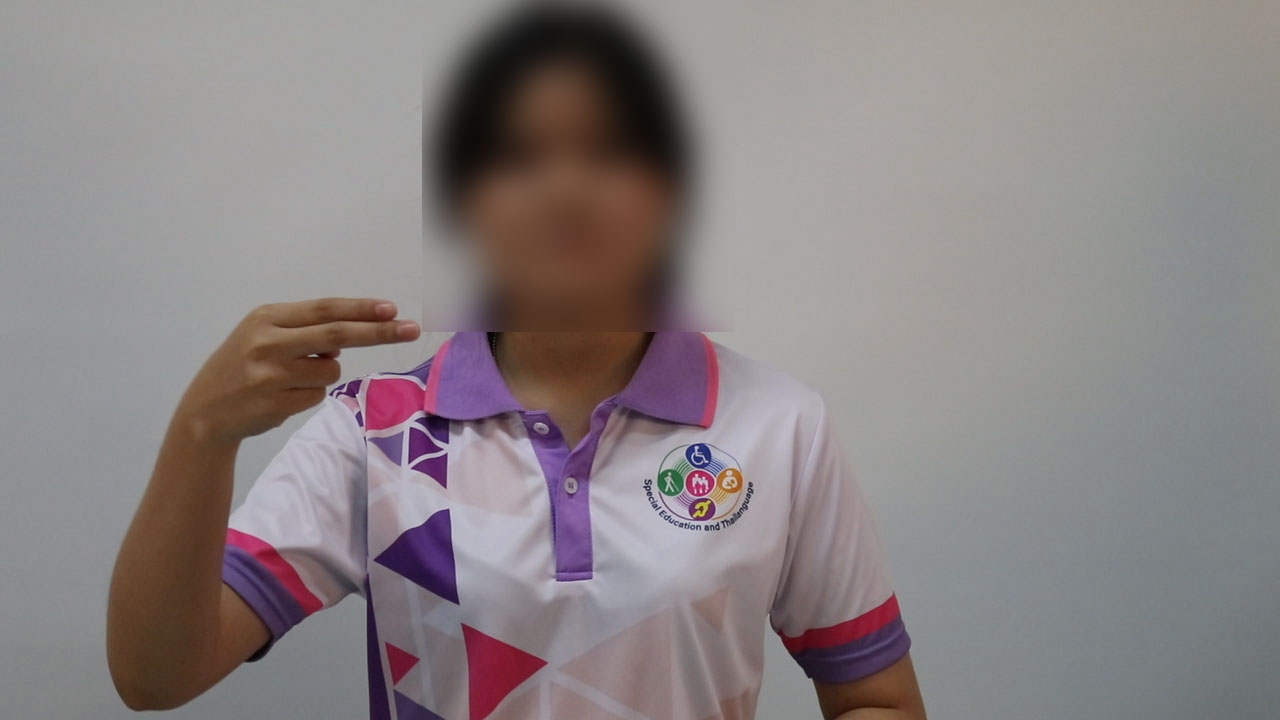hor: (183, 288, 433, 437)
